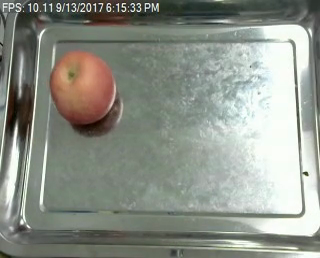Apple: (48, 49, 116, 126)
